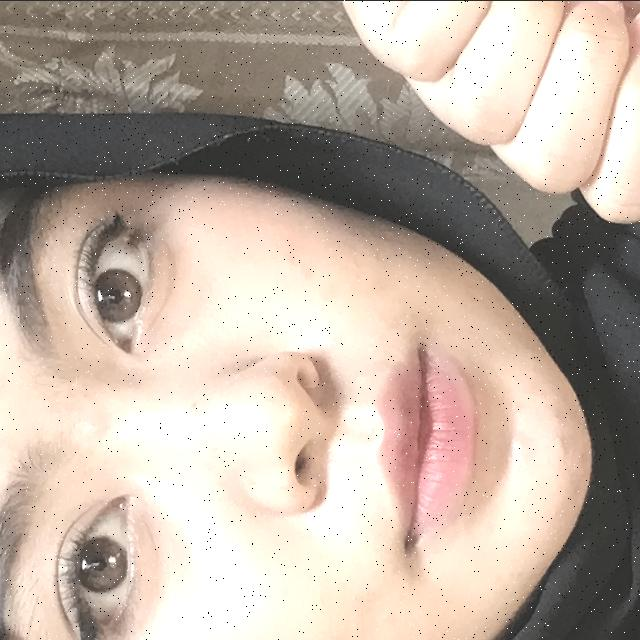sedih: (206, 0, 640, 270)
